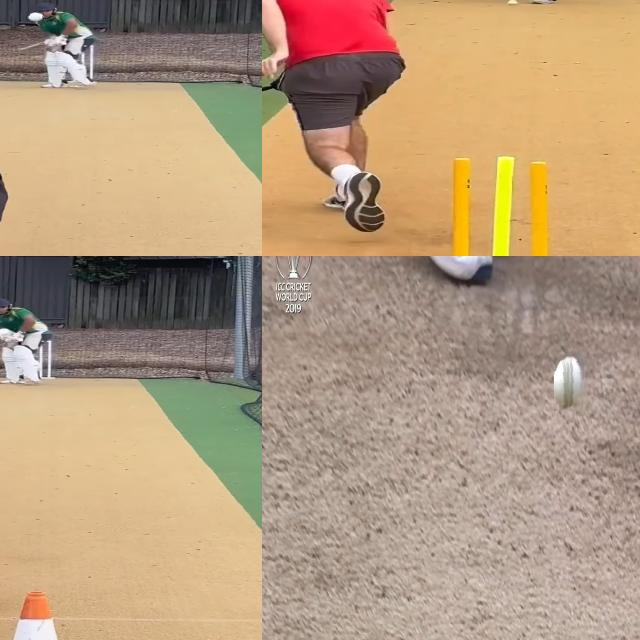Cricket ball: (554, 354, 586, 411), (26, 10, 46, 24), (0, 327, 10, 335), (506, 0, 519, 6)
Stumps: (435, 157, 563, 256)
